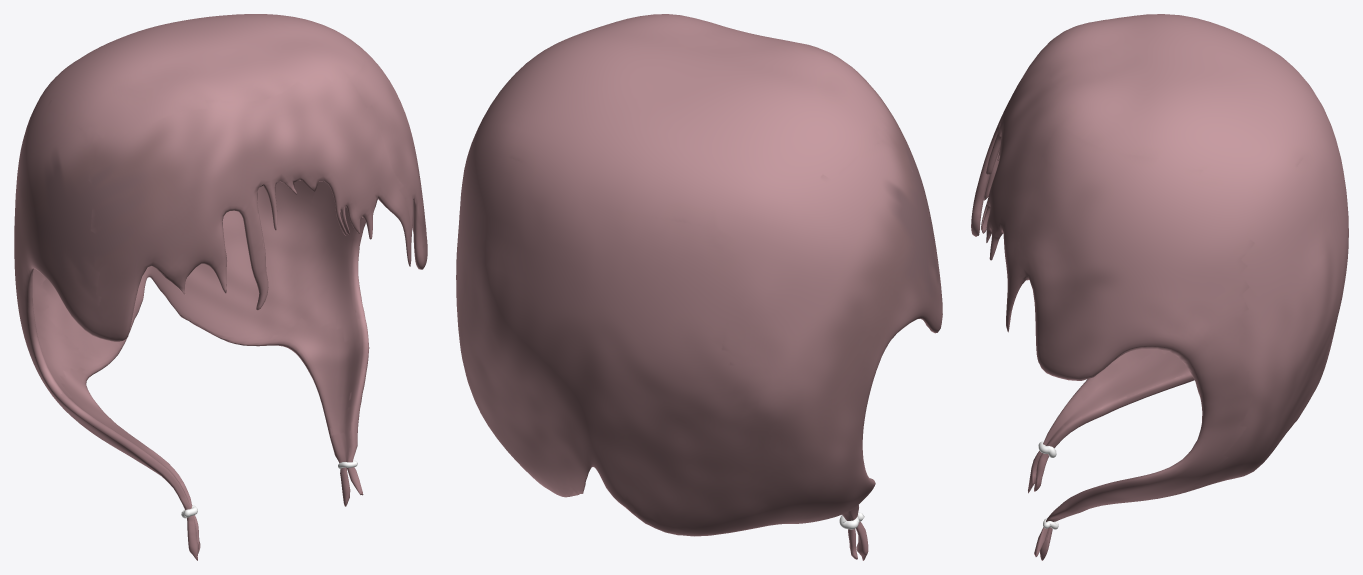
The model's file is Braid_Pink.glb.
3 renders of one model, left to right at view 1: azimuth 30°, elevation 25°; view 2: azimuth 150°, elevation 25°; view 3: azimuth 270°, elevation 25°, orthographic. The views are drawn at different scales.
Parts seen in each view (by area): view 1: Braid_Pink; view 2: Braid_Pink; view 3: Braid_Pink.
Boxes of the visible parts, left/top/right/bottom form: Braid_Pink: left=14, top=14, right=427, bottom=560; Braid_Pink: left=456, top=14, right=942, bottom=560; Braid_Pink: left=971, top=14, right=1348, bottom=560.
Bounding box in the file's own units: 0.936 × 1.11 × 0.791.
Materials: 2 (1 with a texture image).
